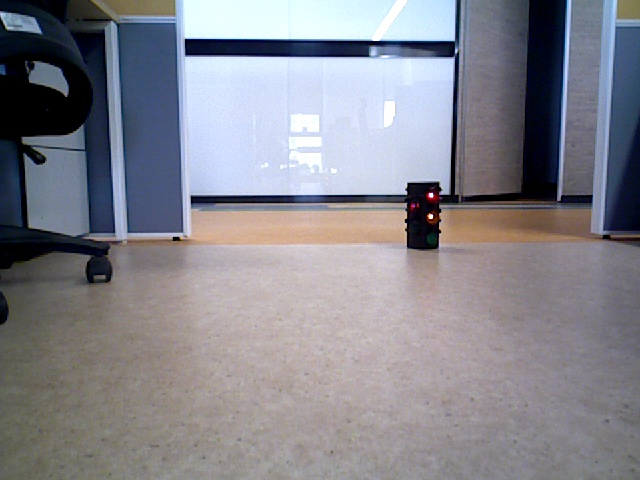red: (409, 187, 439, 246)
